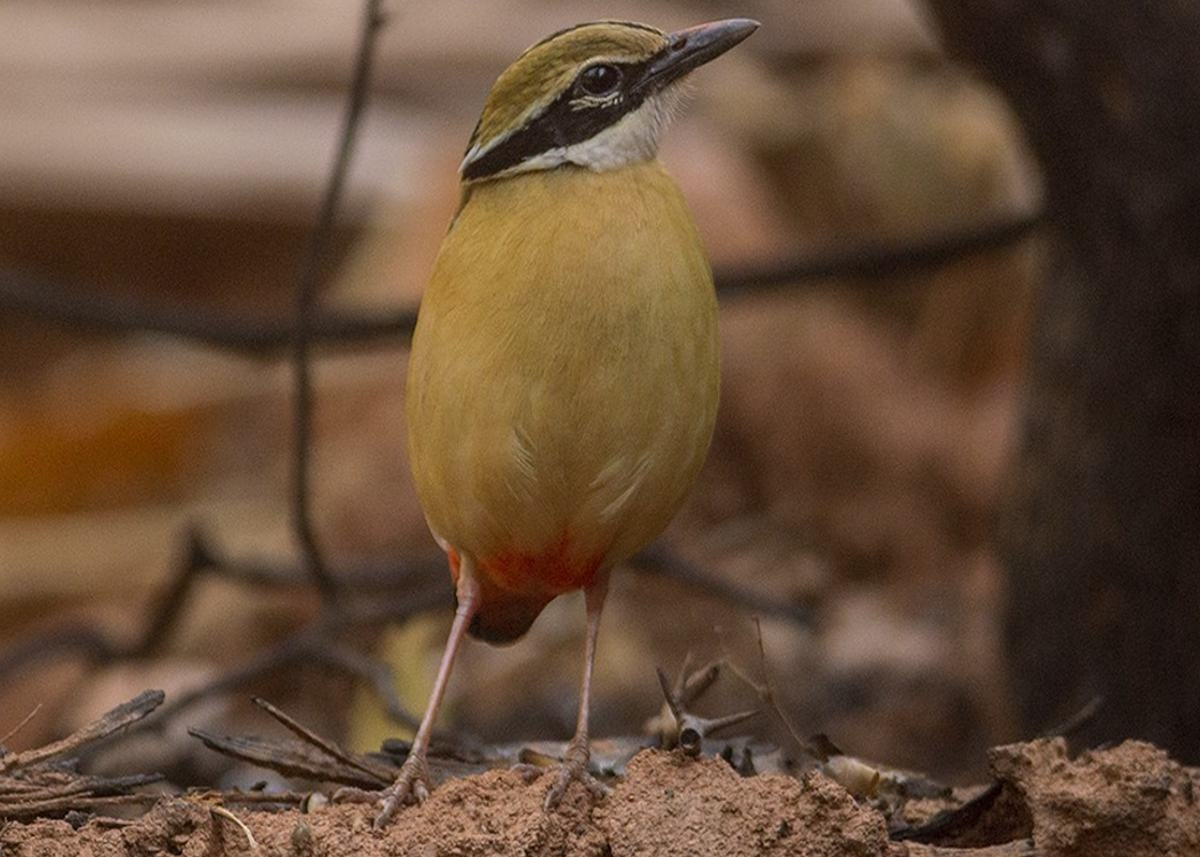pitta: (405, 12, 803, 691)
